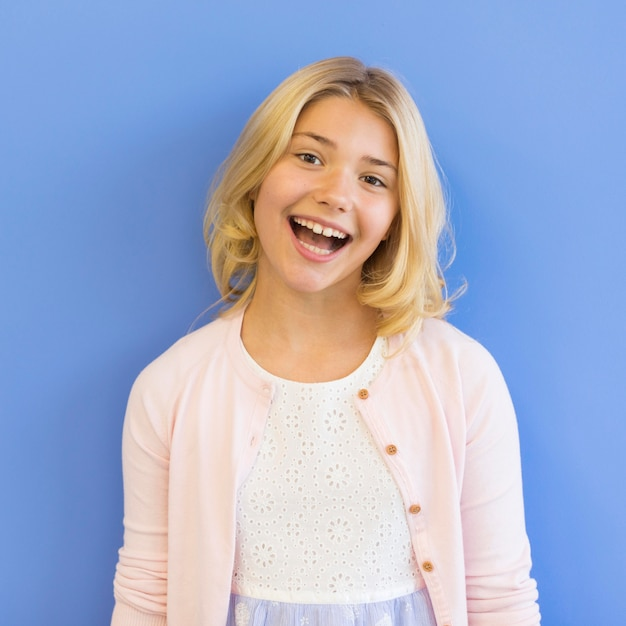teen: (221, 69, 436, 347)
